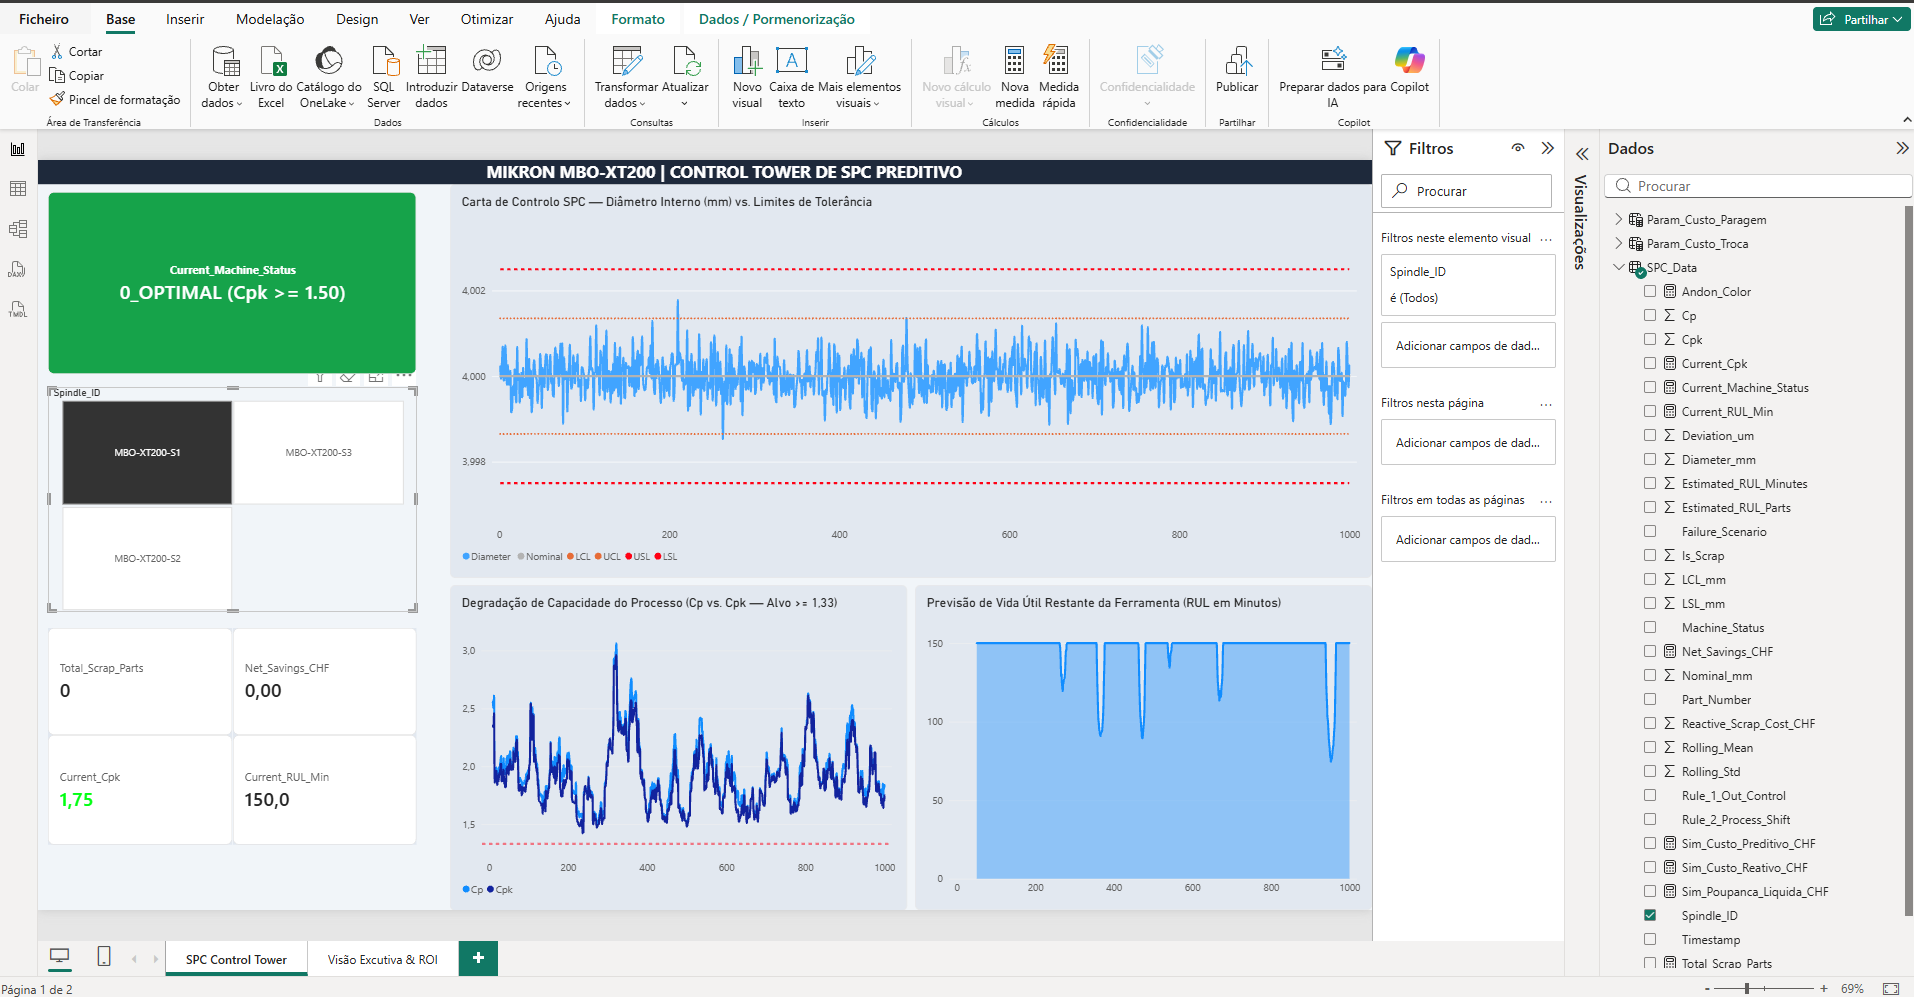

The dashboard page shown, as its layout file describes it:
{"tool":"powerbi","page":{"name":"SPC Control Tower","canvas":[1920,1080],"ordinal":0},"visuals":[{"type":"slicer","fields":{"Values":["SPC_Data.Spindle_ID"]},"box":[14.7,327.2,530.9,323.1],"z":0},{"type":"cardVisual","fields":{"Data":["SPC_Data.Current_Cpk"]},"box":[14.7,827.3,265.5,158.2],"z":1000},{"type":"cardVisual","fields":{"Data":["SPC_Data.Net_Savings_CHF"]},"box":[280.2,673.1,264.1,154.2],"z":2000},{"type":"cardVisual","fields":{"Data":["SPC_Data.Total_Scrap_Parts"]},"box":[14.7,673.1,265.5,154.2],"z":3000},{"type":"cardVisual","fields":{"Data":["SPC_Data.Current_RUL_Min"]},"box":[280.2,827.3,264.1,158.2],"z":4000},{"type":"lineChart","title":"Carta de Controlo SPC — Diâmetro Interno (mm) vs. Limites de Tolerância","fields":{"Category":["SPC_Data.Part_Number"],"Y":["Avg(SPC_Data.Diameter_mm)","Avg(SPC_Data.Nominal_mm)","Avg(SPC_Data.LCL_mm)","Avg(SPC_Data.UCL_mm)","Avg(SPC_Data.USL_mm)","Avg(SPC_Data.LSL_mm)"]},"box":[592.6,34.9,1327.4,567.2],"z":5000},{"type":"lineChart","title":"Degradação de Capacidade do Processo (Cp vs. Cpk — Alvo >= 1,33)","fields":{"Category":["SPC_Data.Part_Number"],"Y":["Avg(SPC_Data.Cp)","Avg(SPC_Data.Cpk)"]},"box":[592.6,611.4,658.3,469.3],"z":6000},{"type":"areaChart","title":"Previsão de Vida Útil Restante da Ferramenta (RUL em Minutos)","fields":{"Category":["SPC_Data.Part_Number"],"Y":["Avg(SPC_Data.Estimated_RUL_Minutes)"]},"box":[1261.7,611.4,658.3,467.9],"z":7000},{"type":"cardVisual","fields":{"Data":["SPC_Data.Current_Machine_Status"]},"box":[14.7,45.6,530.9,262.8],"z":8000},{"type":"shape","box":[0,0,1920,34.9],"z":9000},{"type":"textbox","box":[530.9,0,913.1,34.9],"z":10000}]}

Visuals, with their boxes on the page's 1920x1080 design canvas (x1, y1, x2, y2). These are canvas units, not pixel positions in the 1914x997 screenshot, which may show the page scaled, cropped or inside an application window:
slicer - SPC_Data.Spindle_ID: locate(15, 327, 546, 650)
cardVisual - SPC_Data.Current_Cpk: locate(15, 827, 280, 986)
cardVisual - SPC_Data.Net_Savings_CHF: locate(280, 673, 544, 827)
cardVisual - SPC_Data.Total_Scrap_Parts: locate(15, 673, 280, 827)
cardVisual - SPC_Data.Current_RUL_Min: locate(280, 827, 544, 986)
"Carta de Controlo SPC — Diâmetro Interno (mm) vs. Limites de Tolerância" lineChart: locate(593, 35, 1920, 602)
"Degradação de Capacidade do Processo (Cp vs. Cpk — Alvo >= 1,33)" lineChart: locate(593, 611, 1251, 1081)
"Previsão de Vida Útil Restante da Ferramenta (RUL em Minutos)" areaChart: locate(1262, 611, 1920, 1079)
cardVisual - SPC_Data.Current_Machine_Status: locate(15, 46, 546, 308)
shape: locate(0, 0, 1920, 35)
textbox: locate(531, 0, 1444, 35)
